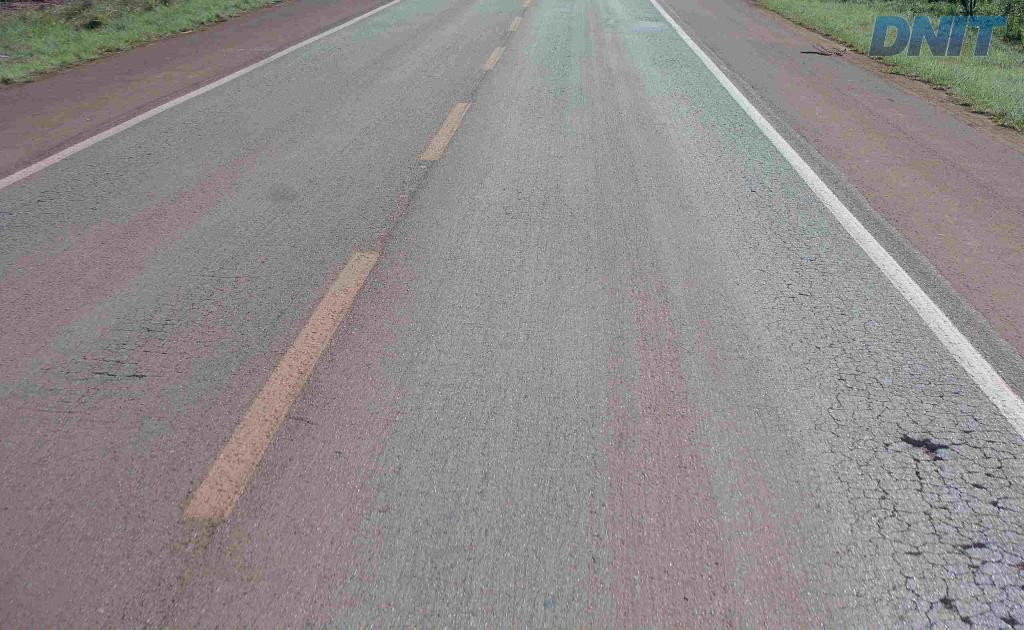crack: (894, 423, 981, 461)
pothole: (894, 434, 947, 462)
